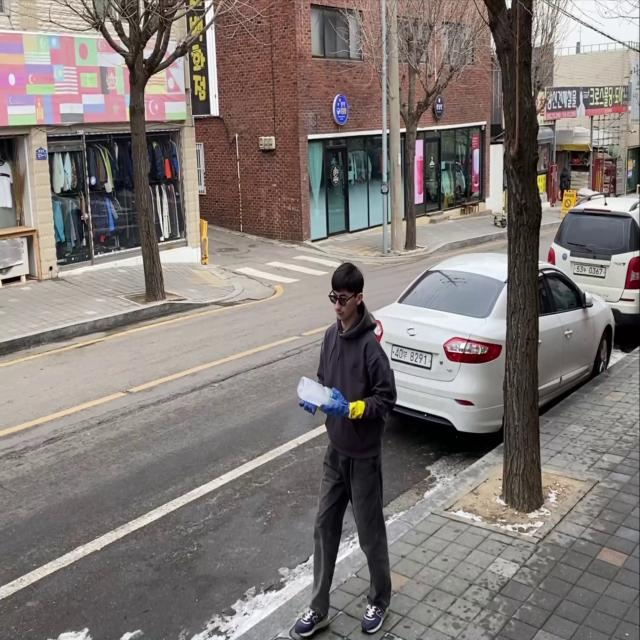gloved_hand: (318, 385, 350, 423), (298, 396, 319, 416)
